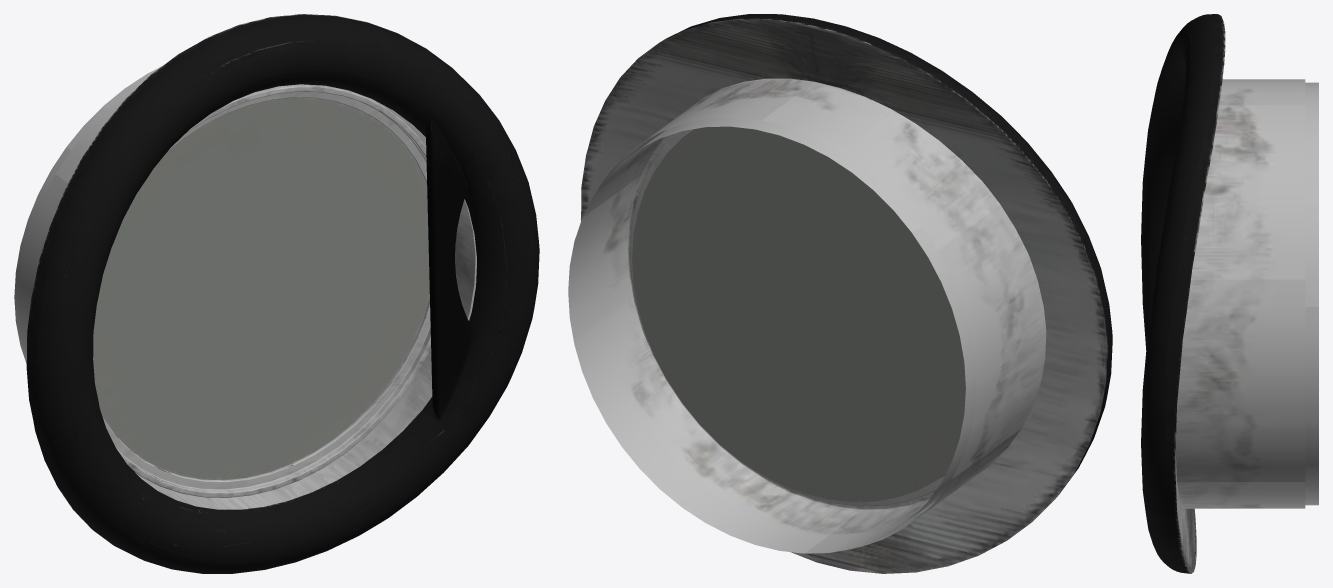
Rendered from link_0__door-1.glb.
3 renders of one model, left to right at view 1: azimuth 30°, elevation 25°; view 2: azimuth 150°, elevation 25°; view 3: azimuth 270°, elevation 25°, orthographic. The views are drawn at different scales.
Parts seen in each view (by area): view 1: geometry_0; view 2: geometry_0; view 3: geometry_0.
Part boxes in pixels (x1,y1,x2,y2): geometry_0: (14,14,539,573); geometry_0: (568,14,1112,573); geometry_0: (1141,14,1318,573).
Bounding box in the file's own units: 0.7771 × 0.7756 × 0.2469.
Materials: 1 (1 with a texture image).
